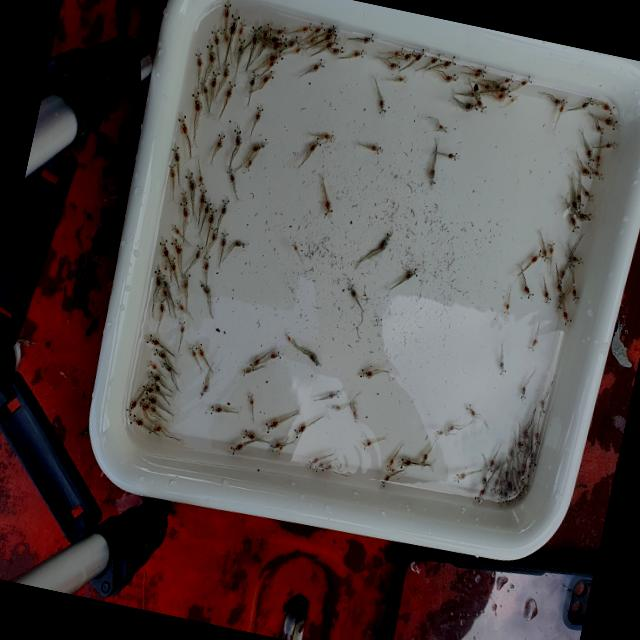babyshrimp: (169, 234, 182, 258), (190, 90, 201, 117), (158, 235, 169, 262), (376, 231, 390, 251), (519, 283, 533, 302), (226, 13, 238, 35), (183, 170, 195, 192), (142, 333, 160, 347), (472, 485, 485, 504), (305, 136, 320, 152), (308, 57, 323, 73), (141, 390, 157, 405), (603, 116, 620, 130), (265, 49, 282, 63), (225, 442, 243, 455), (176, 113, 186, 136), (124, 397, 136, 416), (322, 26, 336, 42), (259, 70, 275, 84), (308, 350, 321, 367), (417, 449, 427, 471), (214, 129, 224, 151), (217, 24, 229, 42), (205, 37, 213, 64), (568, 216, 578, 237), (263, 418, 277, 433), (208, 70, 218, 91), (206, 206, 216, 227), (560, 308, 571, 327), (223, 80, 234, 99), (286, 35, 302, 48), (249, 140, 265, 153), (153, 262, 161, 288), (150, 347, 166, 360), (127, 414, 143, 427), (474, 97, 486, 114), (323, 195, 331, 220), (252, 103, 262, 123), (357, 365, 371, 379), (402, 267, 417, 280), (292, 423, 305, 438), (271, 36, 286, 49), (579, 97, 595, 109), (554, 281, 564, 300), (583, 146, 593, 165), (218, 198, 228, 217), (540, 288, 551, 305), (232, 127, 240, 150), (395, 456, 409, 469), (529, 249, 542, 263), (441, 55, 454, 69), (324, 36, 337, 50), (462, 402, 474, 417), (579, 167, 594, 179), (260, 21, 270, 39), (249, 25, 258, 45), (209, 28, 218, 48), (147, 422, 162, 434), (576, 210, 592, 221), (238, 429, 254, 440), (198, 279, 209, 295), (144, 370, 160, 381), (425, 168, 434, 187), (488, 477, 498, 494), (224, 166, 234, 183), (194, 341, 204, 358), (412, 48, 425, 61), (377, 474, 389, 488), (324, 388, 338, 400), (462, 100, 477, 111), (202, 196, 211, 214), (384, 456, 394, 472), (527, 449, 535, 469), (345, 283, 355, 299), (220, 61, 228, 81), (179, 273, 189, 289), (451, 471, 464, 483), (601, 103, 614, 115), (428, 52, 441, 64), (402, 49, 415, 61), (312, 21, 324, 34), (570, 286, 578, 305), (526, 337, 536, 352), (350, 48, 365, 58), (192, 244, 202, 259), (198, 383, 208, 398), (535, 397, 543, 415), (497, 359, 505, 377), (519, 74, 531, 86), (170, 146, 179, 162), (581, 188, 592, 201), (591, 167, 602, 180), (369, 143, 382, 154), (360, 33, 373, 44), (443, 422, 453, 436), (329, 46, 343, 56), (157, 298, 164, 318), (532, 429, 540, 446), (556, 267, 564, 284), (575, 193, 583, 210), (219, 231, 227, 248), (178, 200, 186, 217), (478, 474, 487, 489), (557, 98, 566, 113), (206, 405, 221, 414), (518, 384, 525, 403), (377, 98, 384, 117), (194, 52, 201, 71), (571, 254, 583, 265), (311, 461, 323, 472), (325, 23, 336, 35), (248, 358, 258, 371), (169, 222, 179, 235), (160, 362, 173, 372), (485, 457, 493, 473), (236, 37, 244, 53), (222, 2, 230, 18), (199, 79, 207, 95), (201, 255, 209, 271), (445, 151, 459, 160), (468, 89, 482, 98), (269, 34, 283, 43), (271, 26, 285, 35), (236, 21, 245, 35), (242, 159, 251, 173), (209, 226, 216, 244), (187, 344, 196, 358), (150, 378, 159, 392), (321, 131, 332, 142), (300, 22, 311, 33), (514, 439, 522, 454), (350, 406, 357, 423), (167, 163, 174, 180), (604, 140, 617, 149), (443, 73, 456, 82), (169, 253, 175, 272), (388, 61, 399, 71), (307, 456, 317, 467), (593, 154, 600, 169), (196, 172, 203, 187), (175, 298, 183, 311), (360, 440, 370, 450), (436, 123, 446, 133), (269, 442, 279, 452), (146, 359, 156, 369), (502, 74, 513, 83), (498, 84, 509, 93), (474, 65, 485, 74), (269, 350, 280, 359), (241, 365, 250, 376), (292, 45, 303, 54), (566, 256, 573, 270), (569, 200, 577, 212), (232, 239, 244, 247), (246, 393, 253, 406), (432, 428, 442, 437), (392, 47, 402, 56), (319, 463, 330, 471), (502, 302, 509, 314), (178, 321, 184, 335), (551, 98, 560, 107), (396, 74, 405, 83), (594, 124, 602, 134), (274, 444, 282, 454), (267, 59, 277, 67), (547, 242, 553, 255), (138, 400, 145, 411), (502, 470, 508, 482), (473, 71, 483, 78), (283, 331, 290, 341), (482, 82, 490, 90), (330, 404, 339, 411), (290, 241, 296, 251), (509, 95, 517, 102), (180, 190, 185, 201), (386, 467, 393, 473)
